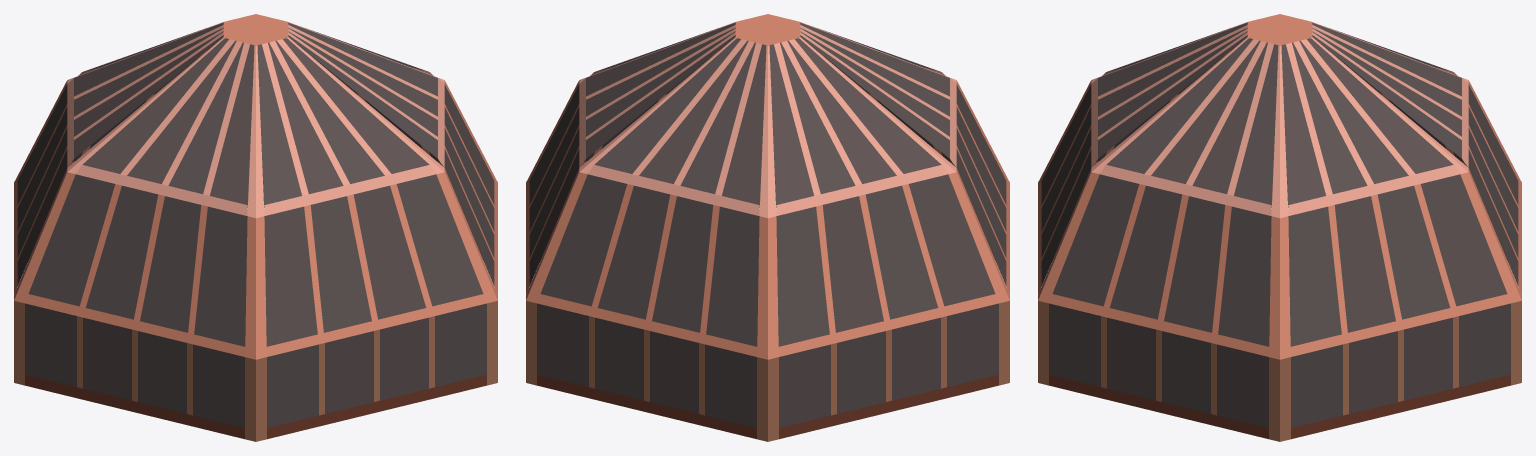
Rendered from TB_CITY_Skysc_H_Top_Brown.FBX.
3 renders of one model, left to right at view 1: azimuth 30°, elevation 25°; view 2: azimuth 150°, elevation 25°; view 3: azimuth 270°, elevation 25°, orthographic.
Parts seen in each view (by area): view 1: TB_CITY_Skysc_H_Top_Brown; view 2: TB_CITY_Skysc_H_Top_Brown; view 3: TB_CITY_Skysc_H_Top_Brown.
Part boxes in pixels (x1,y1,x2,y2): TB_CITY_Skysc_H_Top_Brown: (14, 14, 497, 441); TB_CITY_Skysc_H_Top_Brown: (526, 14, 1009, 441); TB_CITY_Skysc_H_Top_Brown: (1038, 14, 1521, 441).
Size of the model in its own units: 16 by 9.29 by 13.86.
